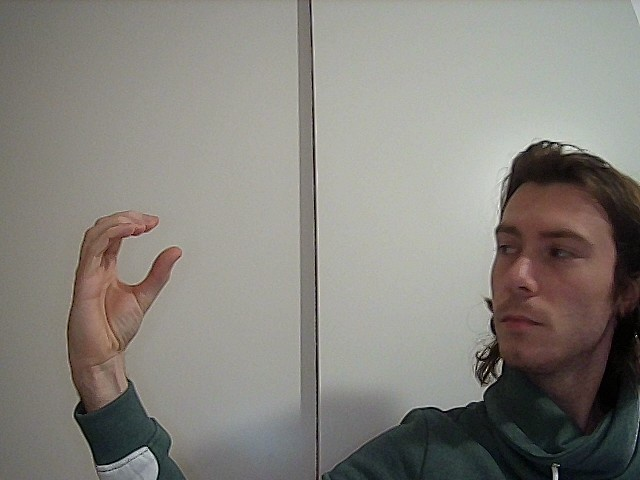c: (50, 204, 189, 362)
